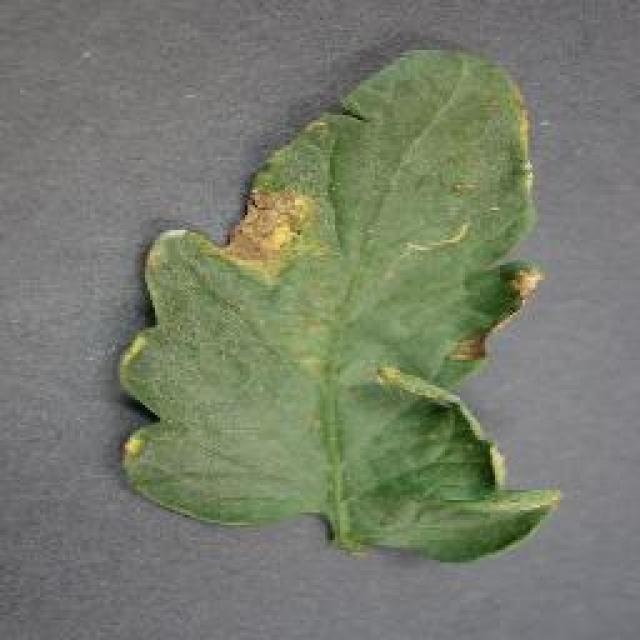Tomato___Bacterial_spot: (104, 42, 576, 574)
